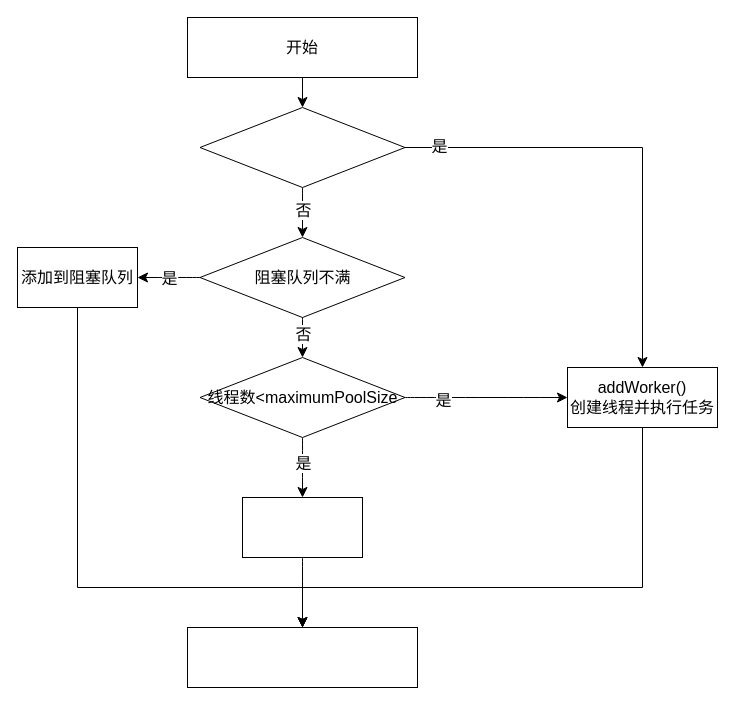
This 735x705 diagram has some shape labels left out. The box of each missing label's shape, as (x1, y1, x2, y2) in pixels:
拒绝任务: (242, 496, 362, 558)
线程数<corePoolSize: (199, 106, 405, 188)
结束: (186, 626, 418, 688)
